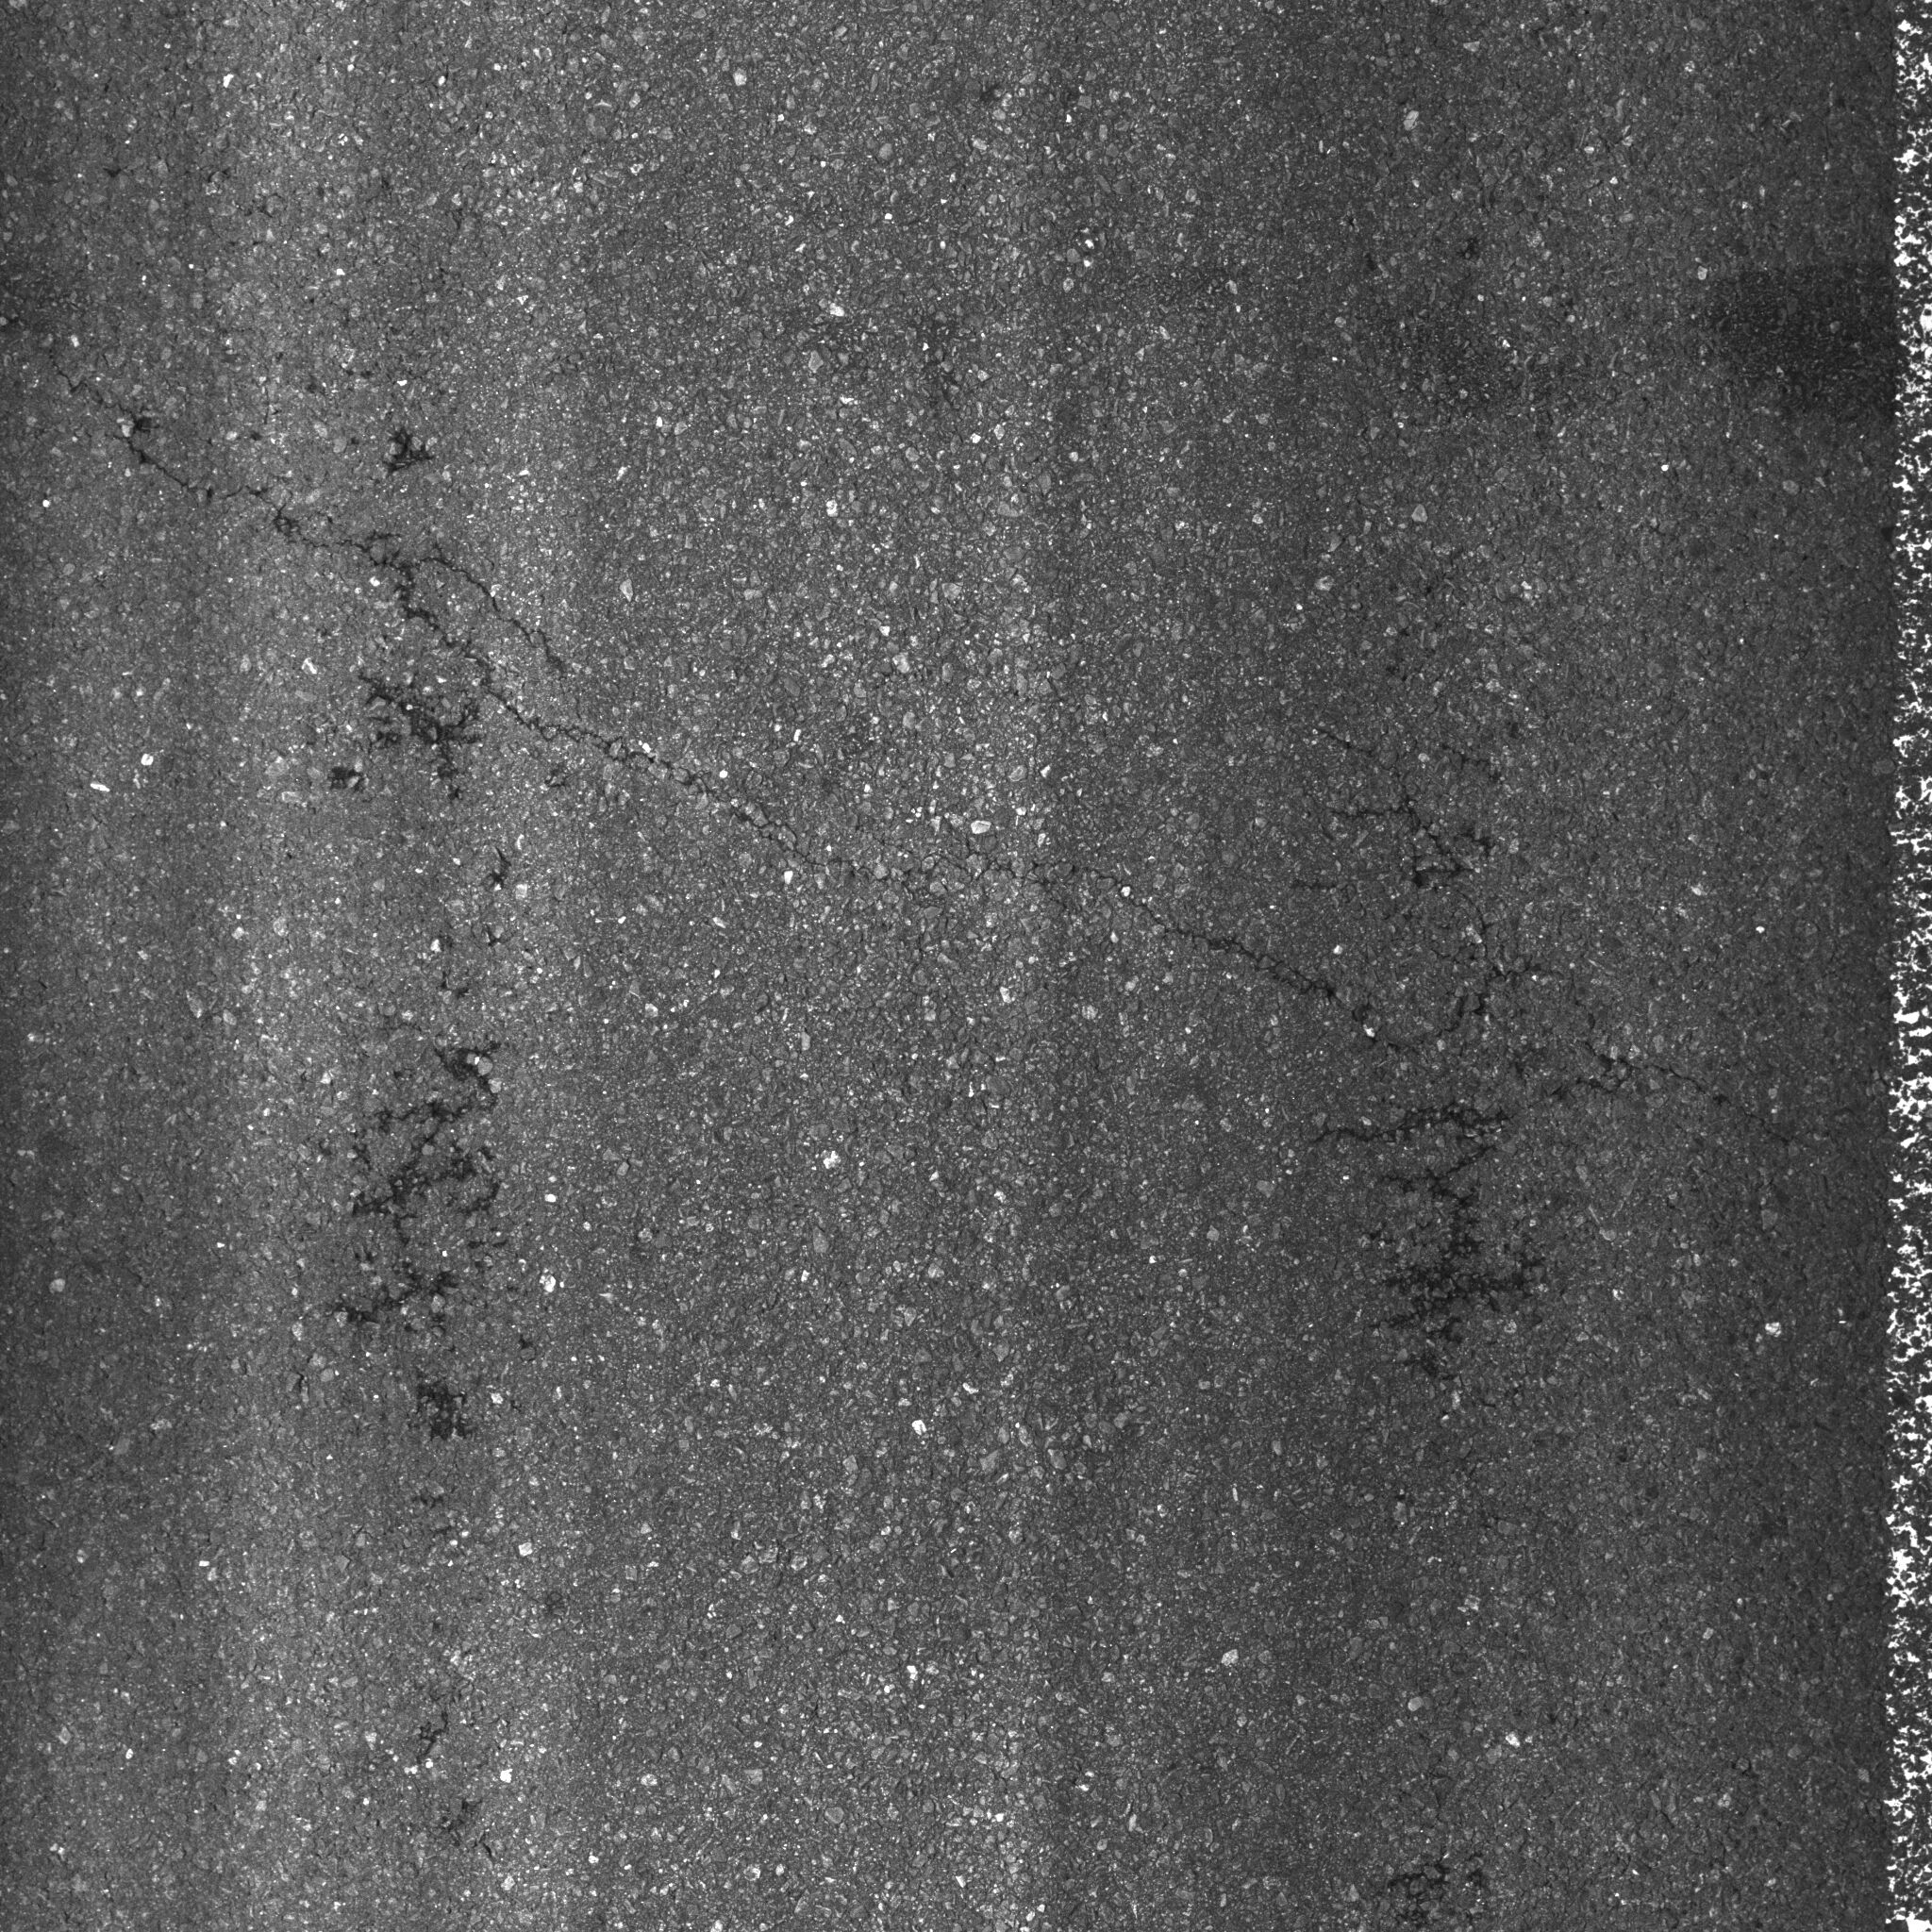transeverse: (62, 384, 1785, 1180)
